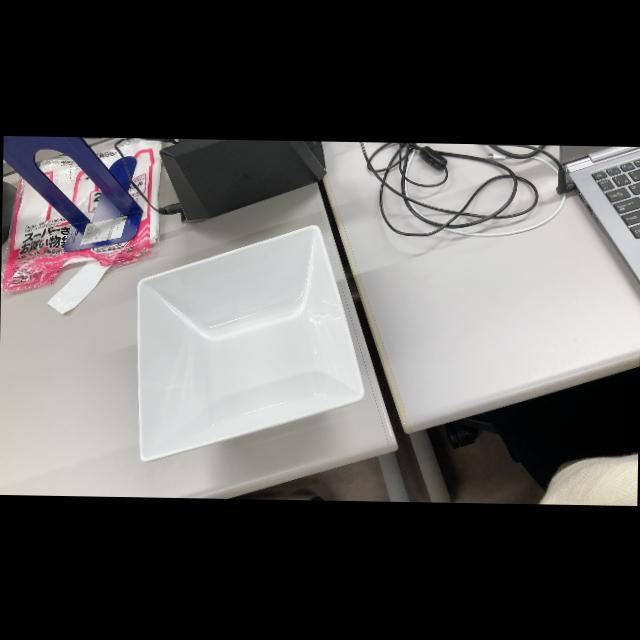plate: (133, 220, 370, 466)
